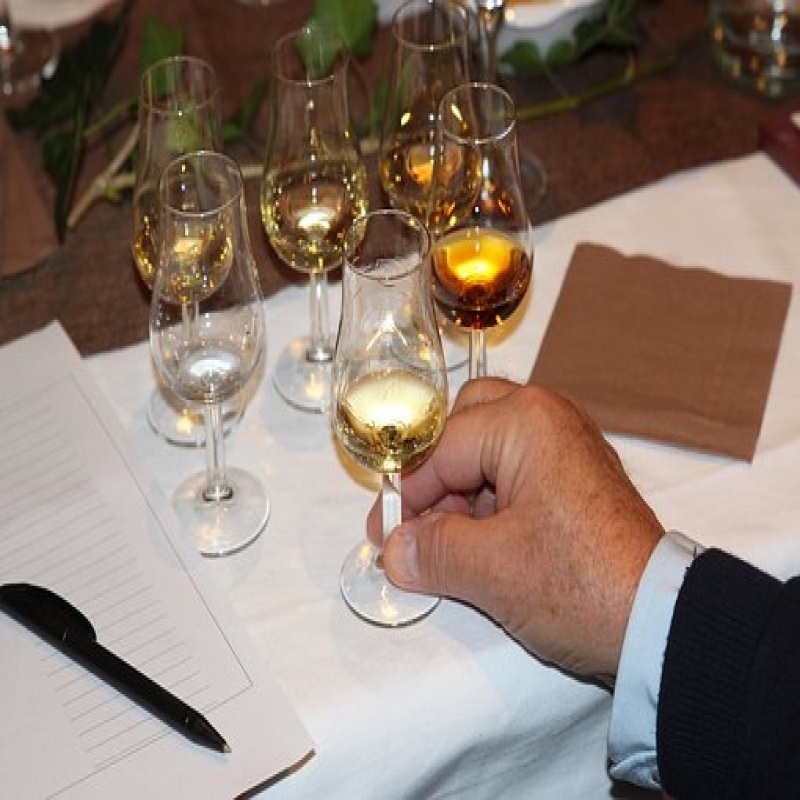whiskey: (330, 213, 449, 468), (426, 77, 539, 326)
